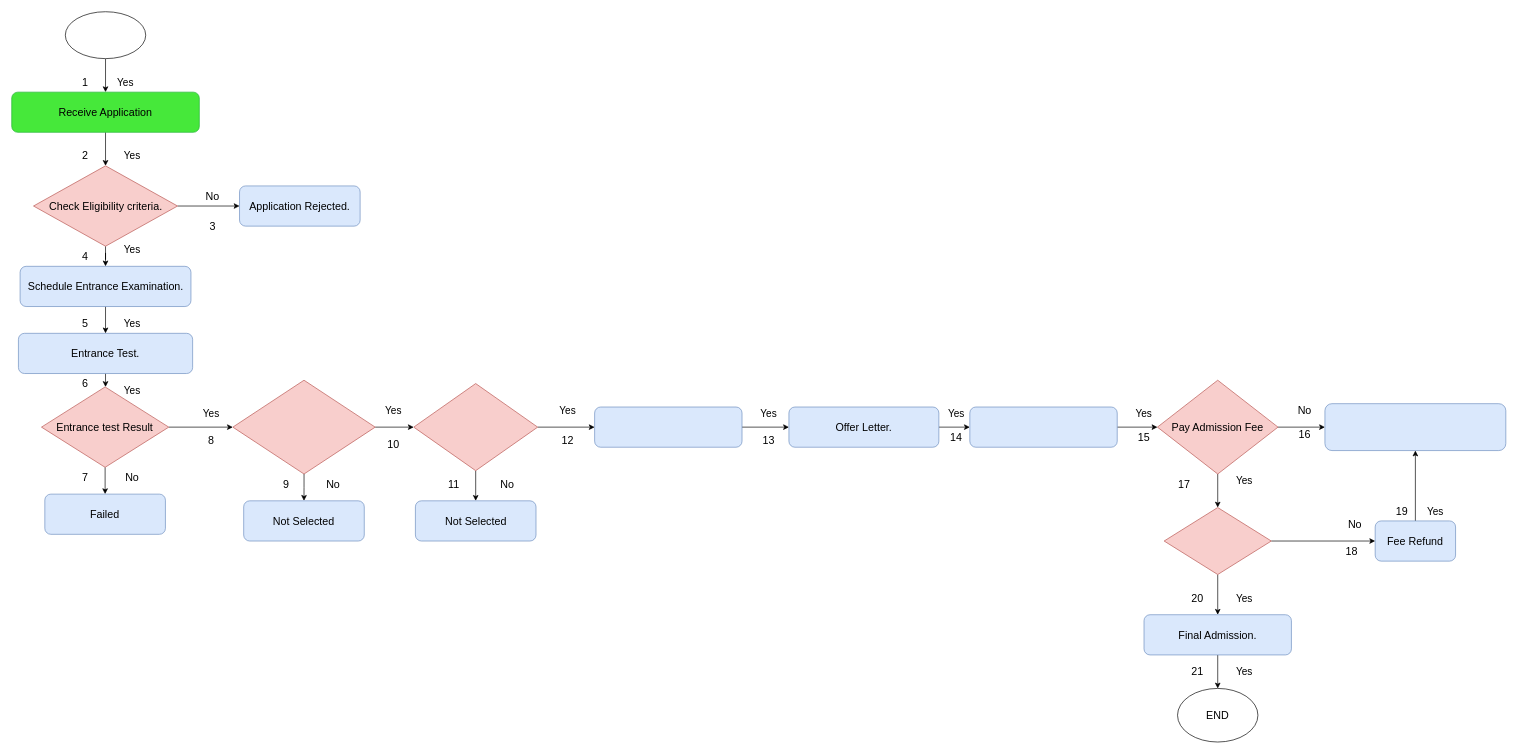
This 1518x754 diagram has some shape labels left out. The box of each missing label's shape, as (x1, y1, x2, y2) in pixels:
Acceptance Letter.: (969, 406, 1117, 447)
Admission Cancelled: (1324, 403, 1506, 451)
Document verification.: (1163, 507, 1271, 575)
Interview with Interviewer: (232, 380, 375, 474)
Merit List Preparation.: (413, 383, 538, 471)
Seat Allotment: (594, 406, 742, 447)
Start: (65, 11, 146, 59)
